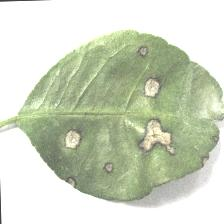canker: (51, 44, 224, 208)
